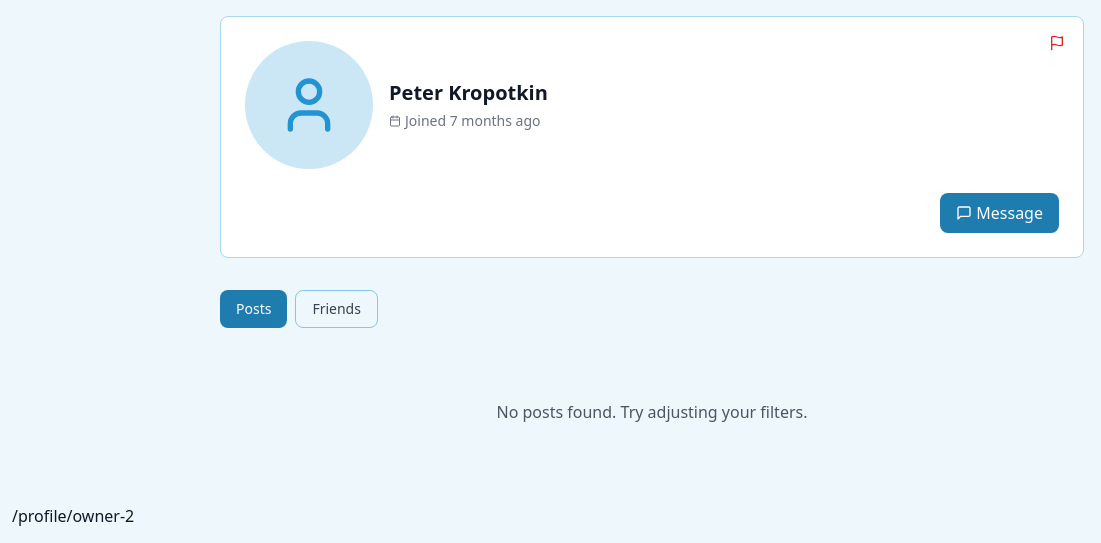
Test: ProfilePage message button › disables the Message button while the request is in flight
Click the button "Message". click: (1000, 213)
box: [940,193,1059,233]
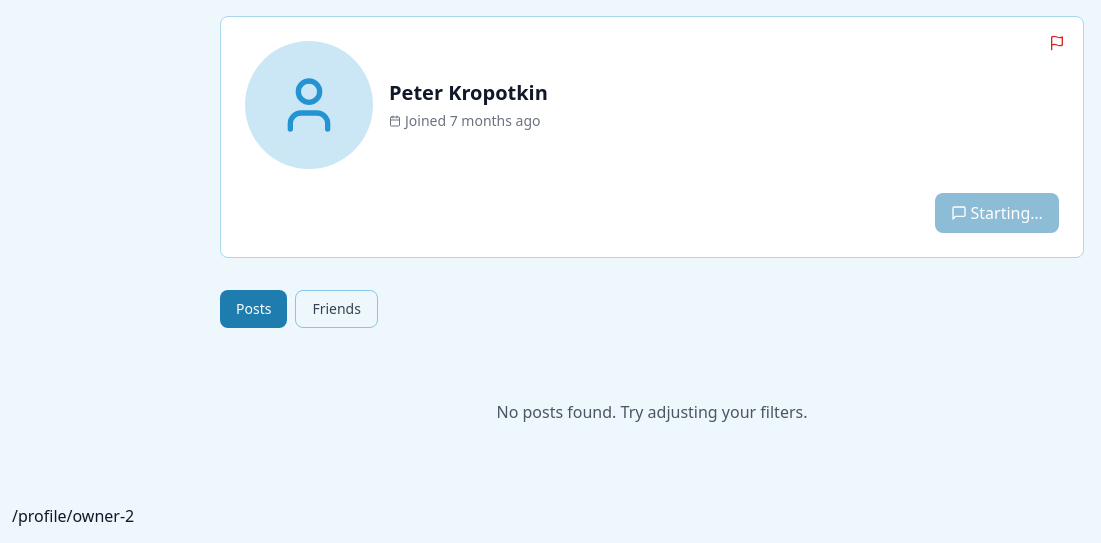
Result: the button named "message" is disabled at [935,193,1059,233]
Result: the button named "message" shows "Starting" at [935,193,1059,233]
